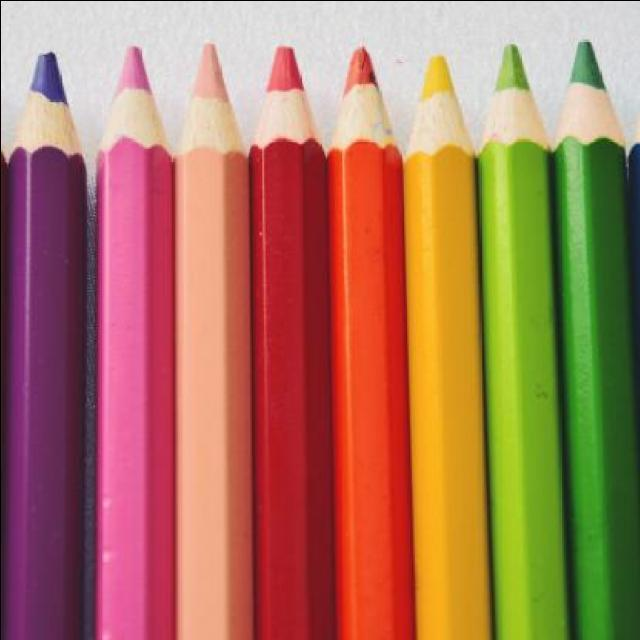pencil: (547, 34, 640, 182), (0, 44, 88, 180), (250, 37, 328, 181), (473, 44, 552, 184), (94, 36, 168, 178), (398, 53, 474, 190), (173, 38, 244, 178), (328, 45, 398, 187)
